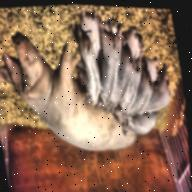boar: (0, 0, 185, 165)
